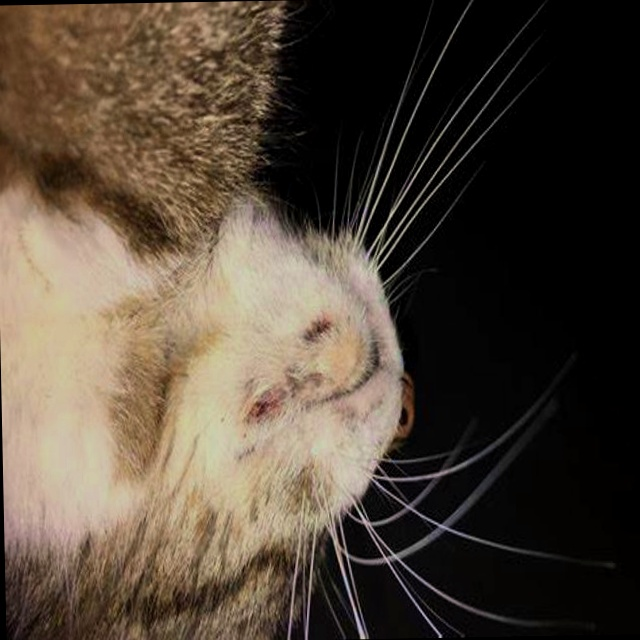acne: (234, 316, 333, 428)
